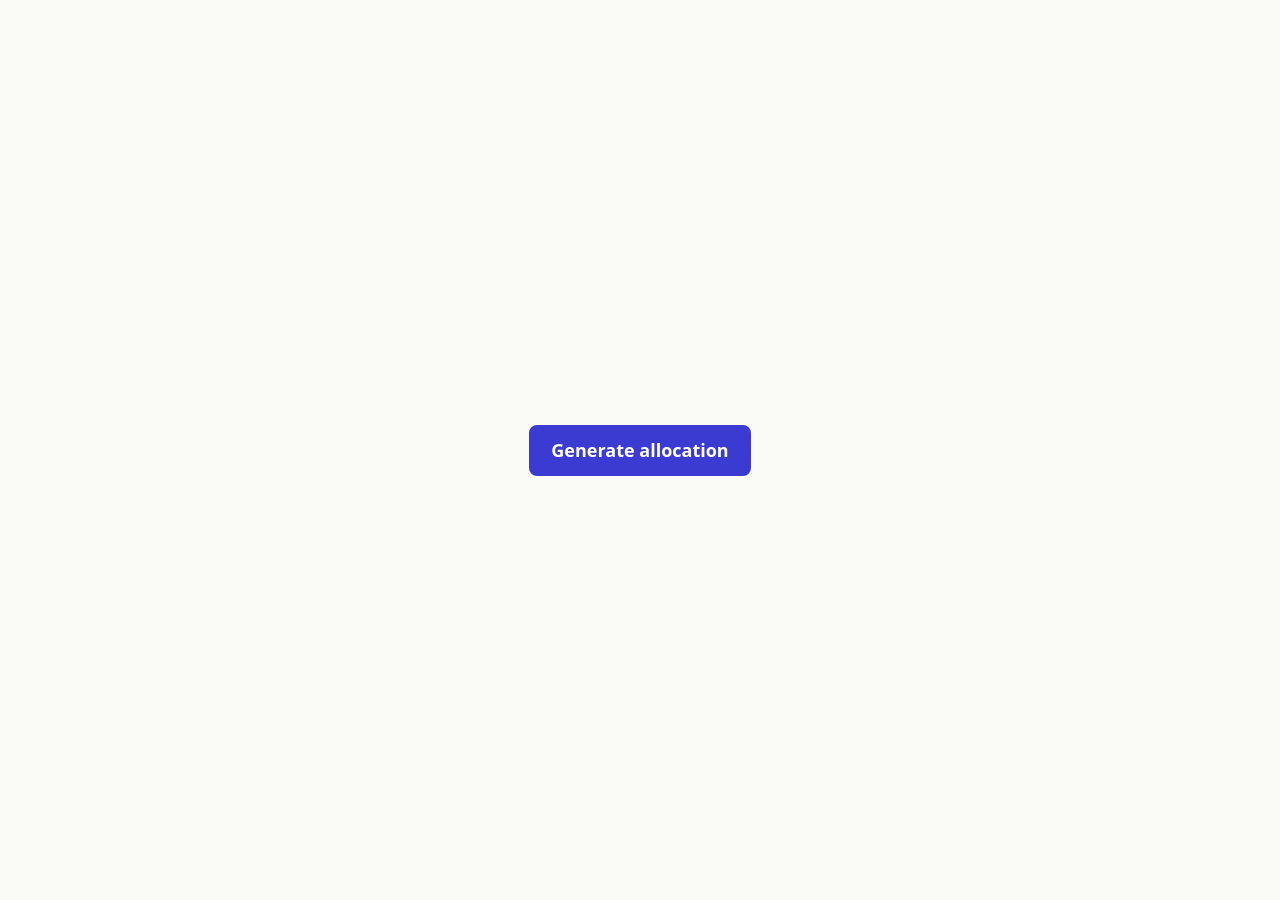
Test: App › keeps results during a re-run and labels them after a failure
Later steps or results of the test are not shown.
What coordinates should you click on to do the following:
click the button "Generate allocation"
I would click on:
 (640, 450)
Its box is [529, 424, 751, 476].
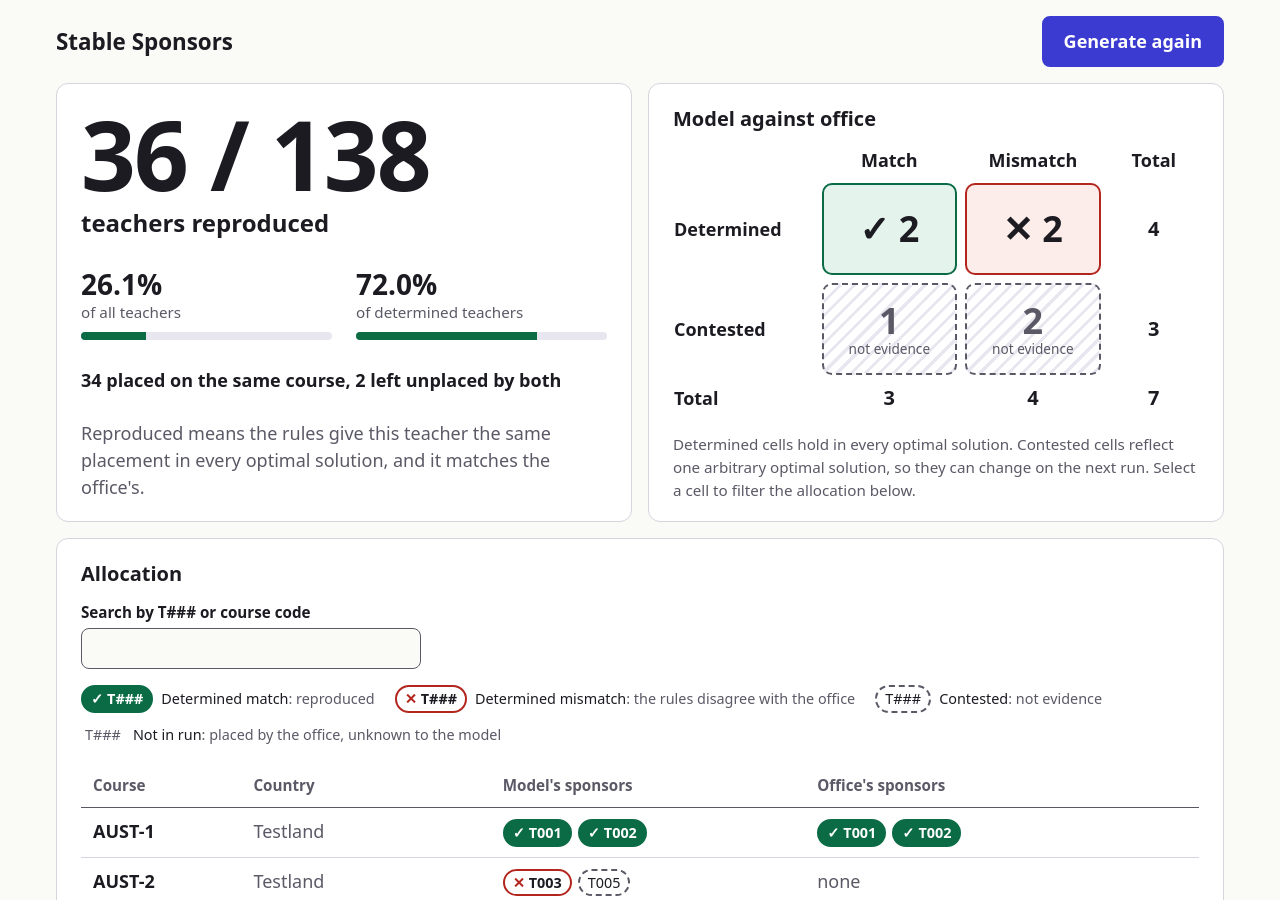
What coordinates should you click on to do the following:
click the button "Generate again"
I would click on:
 (1133, 42)
Its box is [1042, 16, 1224, 67].
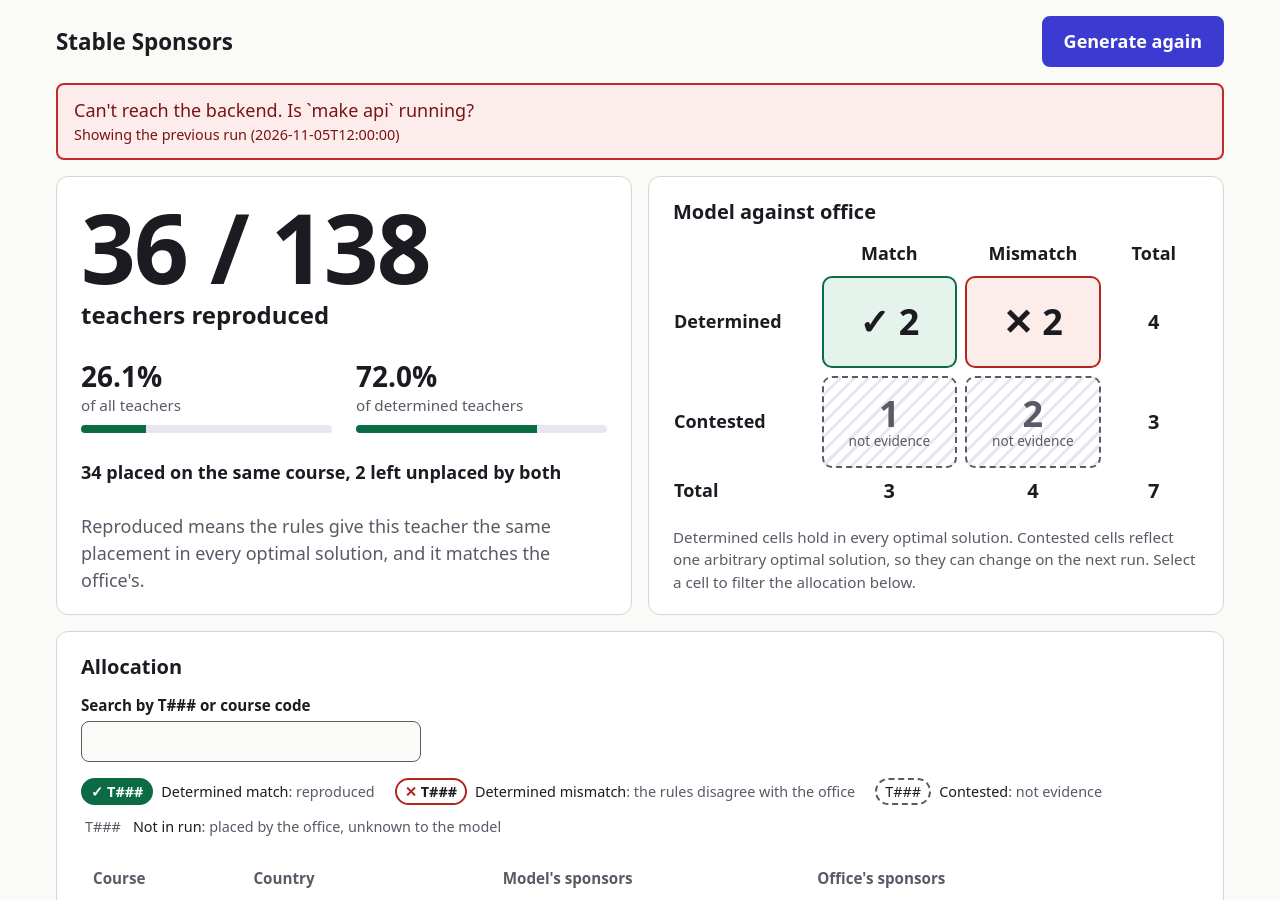
Result: the text "Can't reach the backend. Is `make api` running?" is shown at [74, 98, 474, 122]
